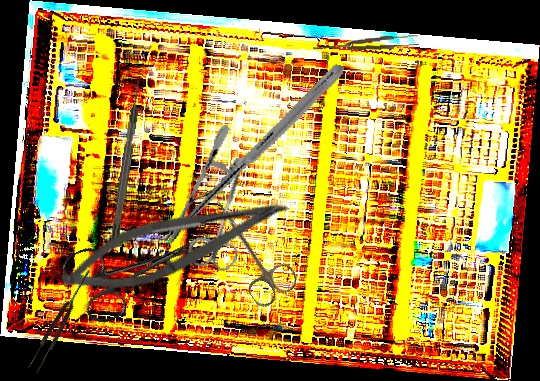Hook Surgical: (108, 79, 145, 247)
Iris Scissors: (58, 206, 215, 330), (195, 188, 302, 311), (185, 153, 263, 276)
Micro Scissor: (53, 169, 296, 316)
Needle Holder: (163, 31, 345, 277)
Tissue Forceps: (26, 267, 96, 374), (312, 33, 419, 55)
